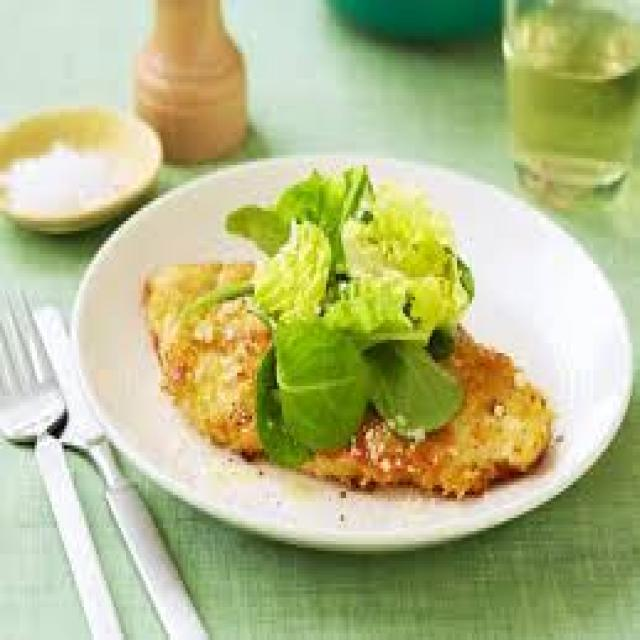Organik: (153, 167, 555, 488)
